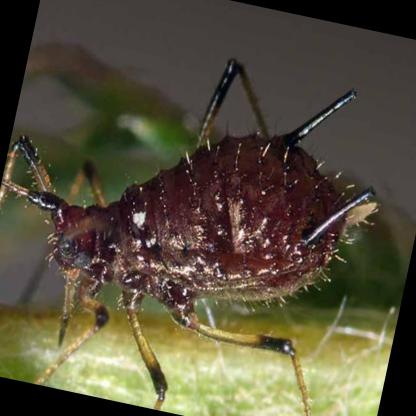uroleucon compositae: (0, 59, 378, 416)
